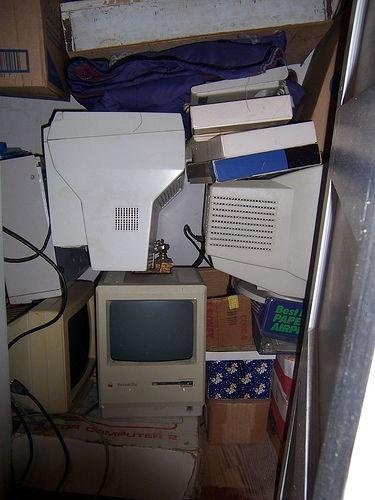tvmonitor: (37, 111, 190, 275), (204, 157, 322, 301), (5, 279, 103, 419)
